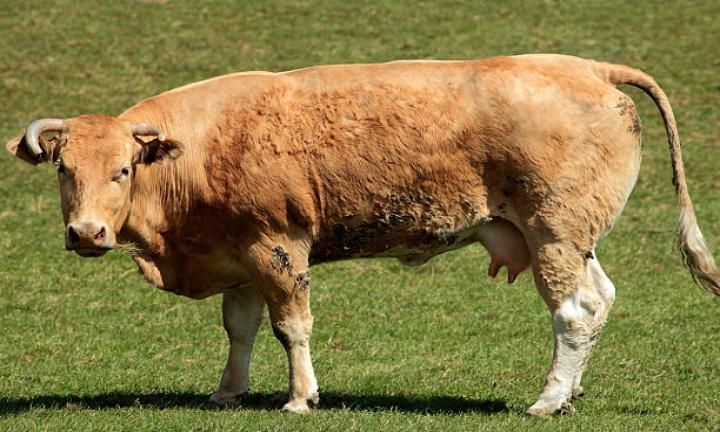Charolais: (6, 54, 719, 414)
